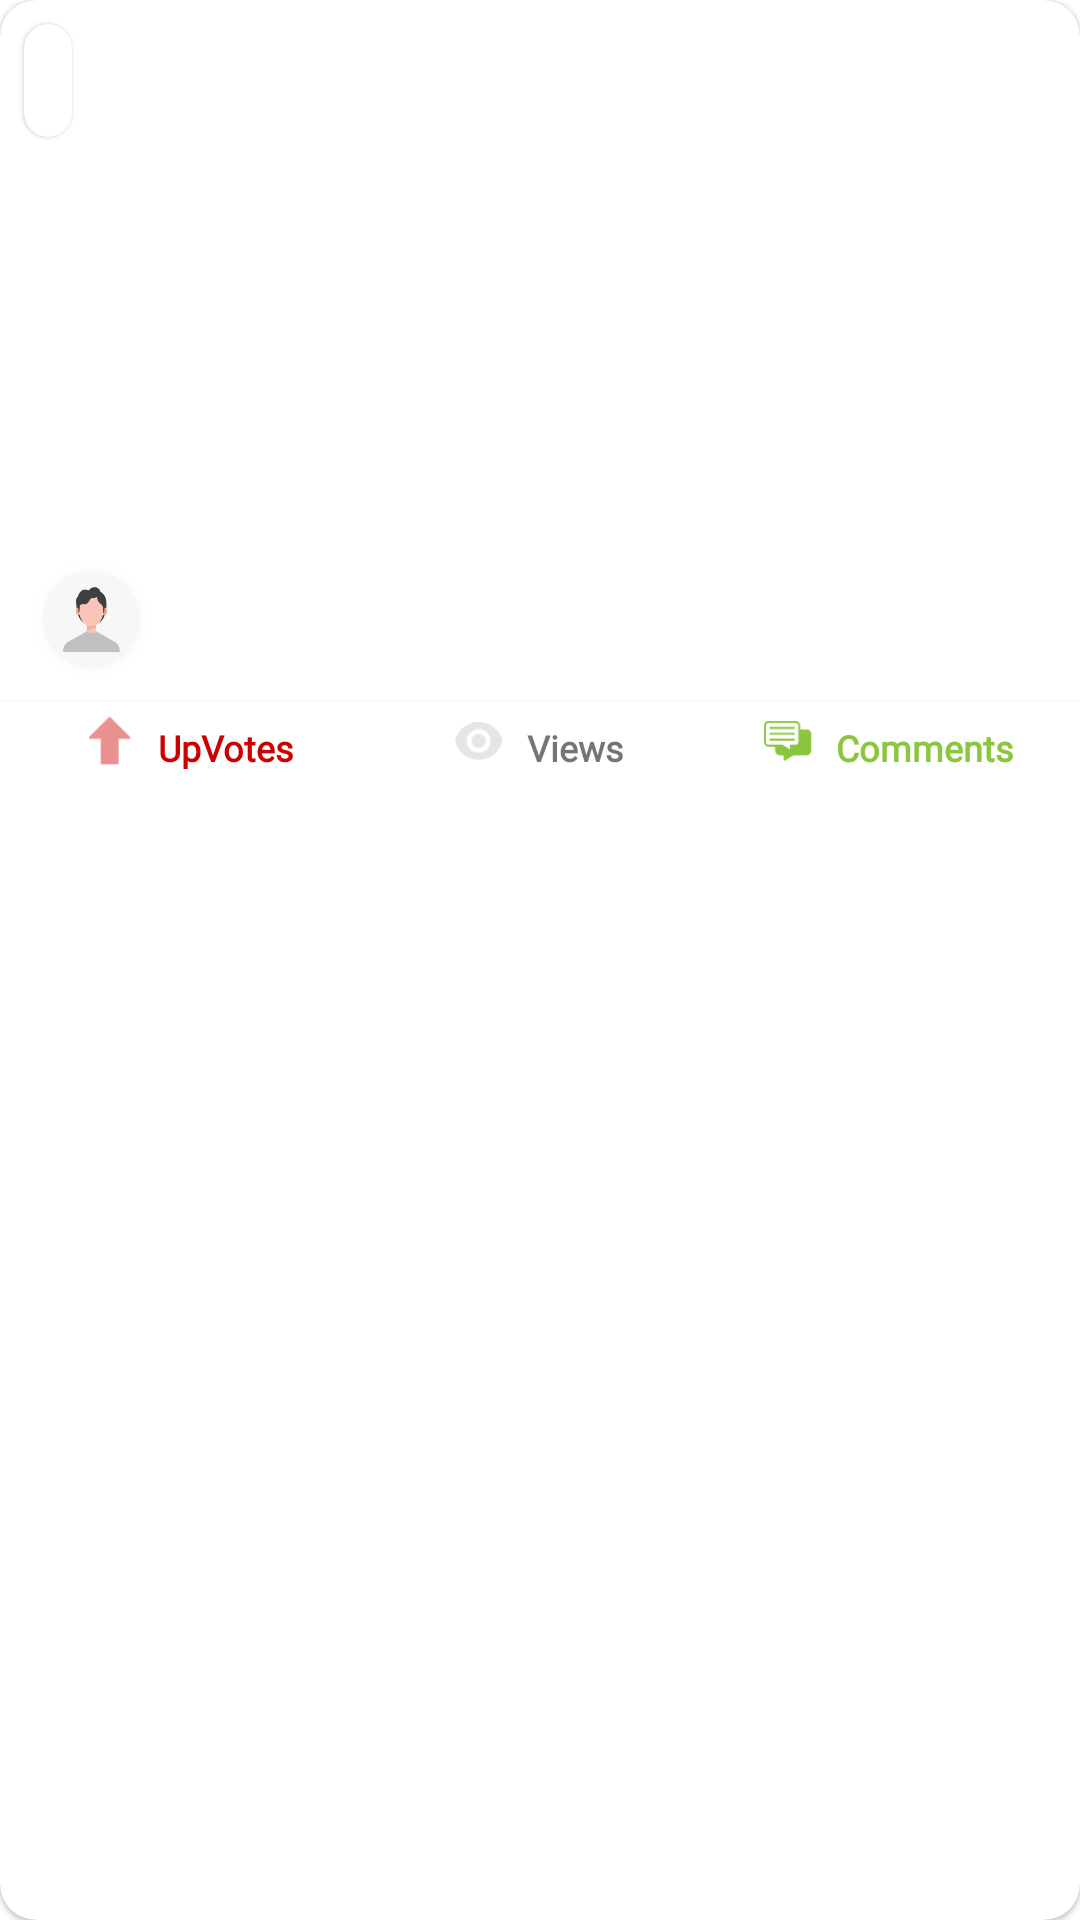

Icon click points for this 1080px×1920px phone screenshot, format (x,y):
profile place holder: (91,619)
